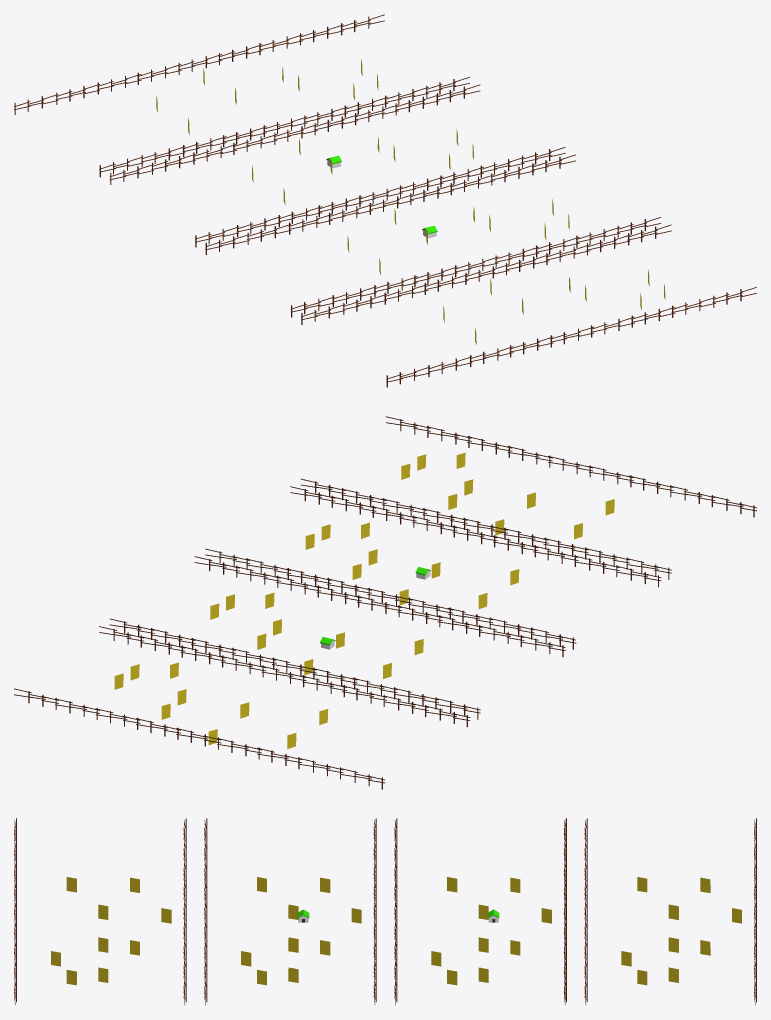
File: farm06.glb
The picture shows the model from 3 angles, top to bottom: view 1: azimuth 30°, elevation 25°; view 2: azimuth 150°, elevation 25°; view 3: azimuth 270°, elevation 25°; orthographic projection.
Visible parts, largest first — view 1: Farm06; view 2: Farm06; view 3: Farm06.
Boxes of the visible parts, box(x1,y1,x2,y2) form: Farm06: box(14, 14, 756, 387); Farm06: box(14, 416, 756, 789); Farm06: box(14, 818, 756, 1005).
Bounding box in the file's own units: 17.92 × 0.8765 × 31.26.
